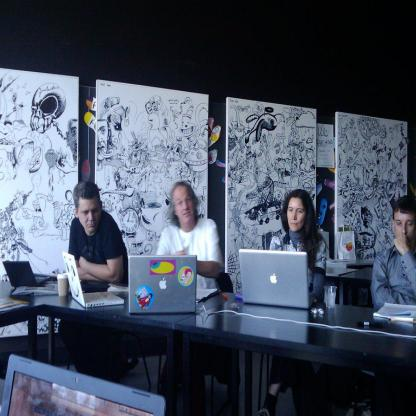board: (0, 354, 165, 416), (239, 248, 312, 314), (129, 256, 196, 312), (62, 252, 123, 308), (2, 260, 50, 286)
